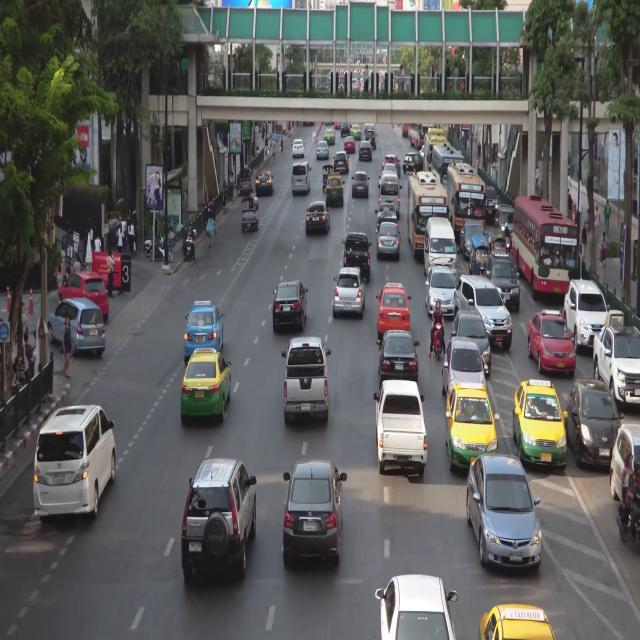bus: (515, 196, 578, 300), (409, 173, 447, 260), (447, 164, 485, 238), (433, 145, 463, 208), (425, 132, 450, 189), (410, 123, 435, 150)
car: (35, 408, 115, 516), (470, 455, 544, 569), (186, 460, 255, 575), (286, 460, 340, 566), (569, 375, 621, 469), (379, 576, 454, 640), (457, 271, 512, 352), (375, 381, 424, 471), (595, 325, 640, 404), (45, 301, 107, 358), (286, 338, 328, 417), (563, 277, 611, 346), (443, 342, 487, 404), (451, 309, 490, 377), (616, 420, 640, 515), (59, 274, 107, 320), (381, 332, 419, 383), (425, 216, 455, 278), (427, 262, 456, 320), (488, 254, 518, 307), (275, 278, 306, 327), (334, 271, 365, 318), (345, 233, 370, 281), (460, 218, 487, 257), (379, 175, 400, 221), (467, 238, 488, 282), (377, 223, 399, 261), (495, 204, 514, 244), (487, 225, 504, 268), (307, 203, 330, 233), (292, 162, 309, 194), (242, 199, 258, 230), (378, 205, 397, 230), (352, 173, 369, 198), (383, 155, 402, 177), (256, 171, 274, 194), (485, 187, 498, 217), (404, 155, 424, 173), (335, 153, 350, 173), (323, 166, 333, 193), (241, 169, 252, 193), (359, 141, 372, 160), (316, 142, 329, 159), (344, 137, 356, 154), (293, 140, 304, 157), (366, 132, 376, 148), (384, 165, 396, 177), (341, 123, 351, 135)
pedestrian: (22, 332, 33, 377), (63, 319, 71, 380), (126, 214, 136, 256), (106, 251, 114, 299), (20, 303, 29, 345), (56, 254, 64, 298), (206, 212, 215, 251), (599, 242, 606, 285), (594, 202, 600, 249), (604, 198, 610, 236), (116, 223, 123, 254), (581, 221, 586, 259), (94, 233, 103, 252), (586, 205, 590, 244), (73, 255, 81, 273), (601, 230, 608, 250), (223, 179, 227, 211), (230, 171, 234, 202), (568, 193, 573, 217), (272, 143, 276, 164), (280, 134, 284, 154), (65, 265, 71, 278), (261, 123, 265, 142), (268, 135, 271, 156), (233, 153, 235, 167)
taxi: (514, 378, 568, 475), (444, 387, 498, 483), (183, 348, 233, 417), (528, 311, 575, 376), (482, 607, 557, 640), (186, 301, 222, 358), (381, 288, 409, 335), (327, 173, 344, 205), (324, 129, 335, 145), (351, 125, 362, 139), (334, 122, 342, 129)
